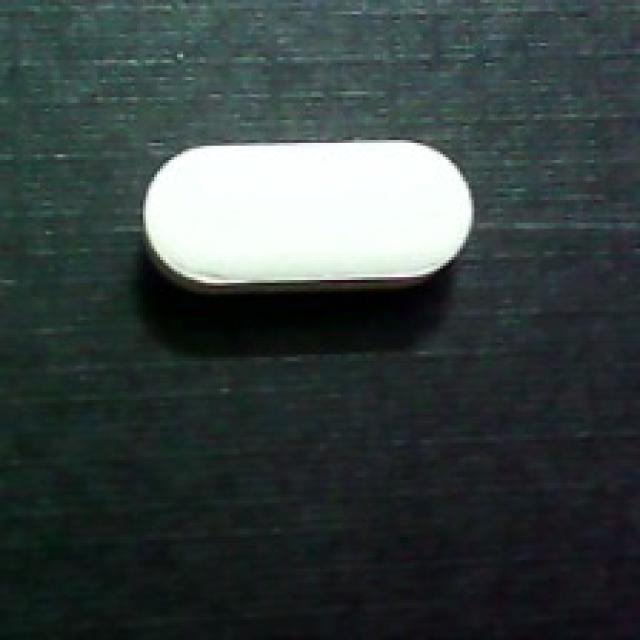no-defect: (137, 131, 483, 300)
